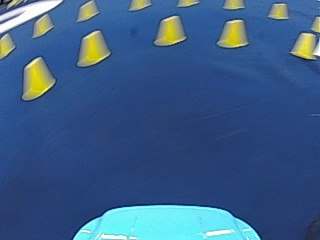cone: (21, 55, 55, 99), (76, 29, 110, 66), (154, 15, 186, 46), (217, 19, 248, 48), (290, 32, 317, 59), (33, 13, 52, 37), (77, 0, 98, 21), (1, 33, 15, 58), (269, 2, 288, 19), (129, 0, 148, 11), (224, 0, 242, 10), (309, 16, 319, 33)
